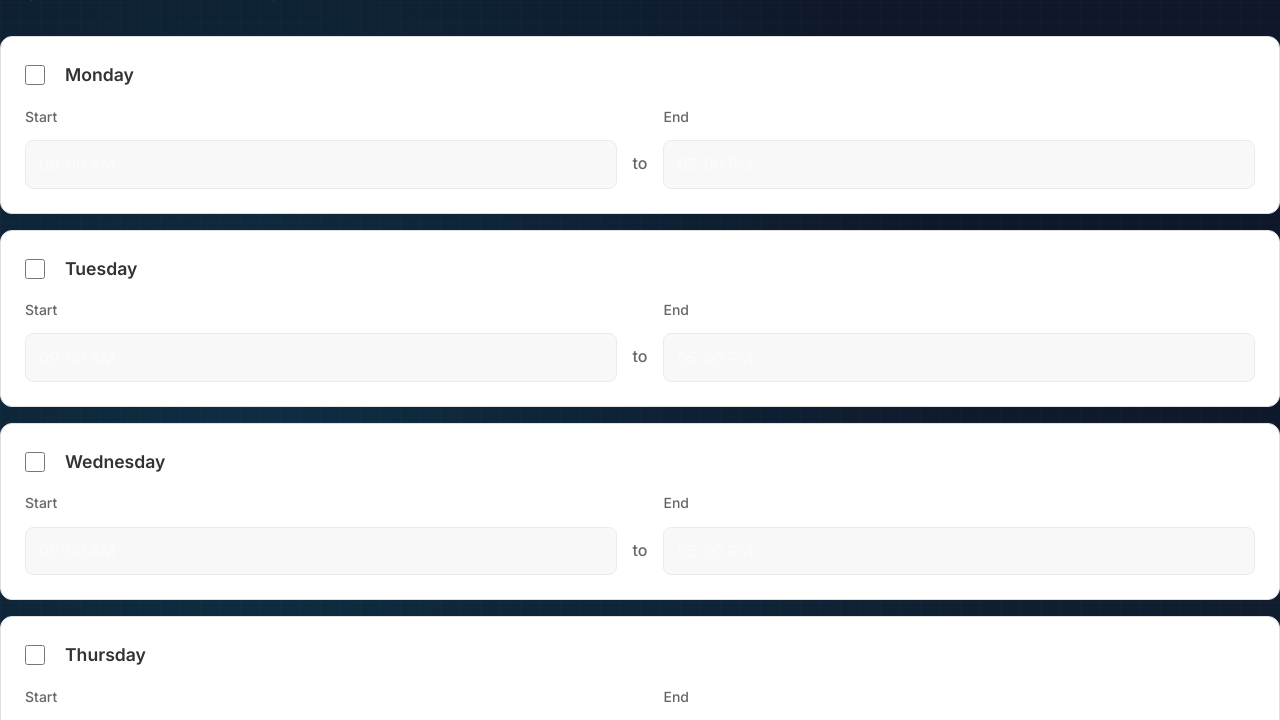
AvailabilityScheduler Component - TDD › Time Input › should validate that end time is after start time
Click the checkbox labelled "Monday" at (35, 76), box [25,66,45,86]
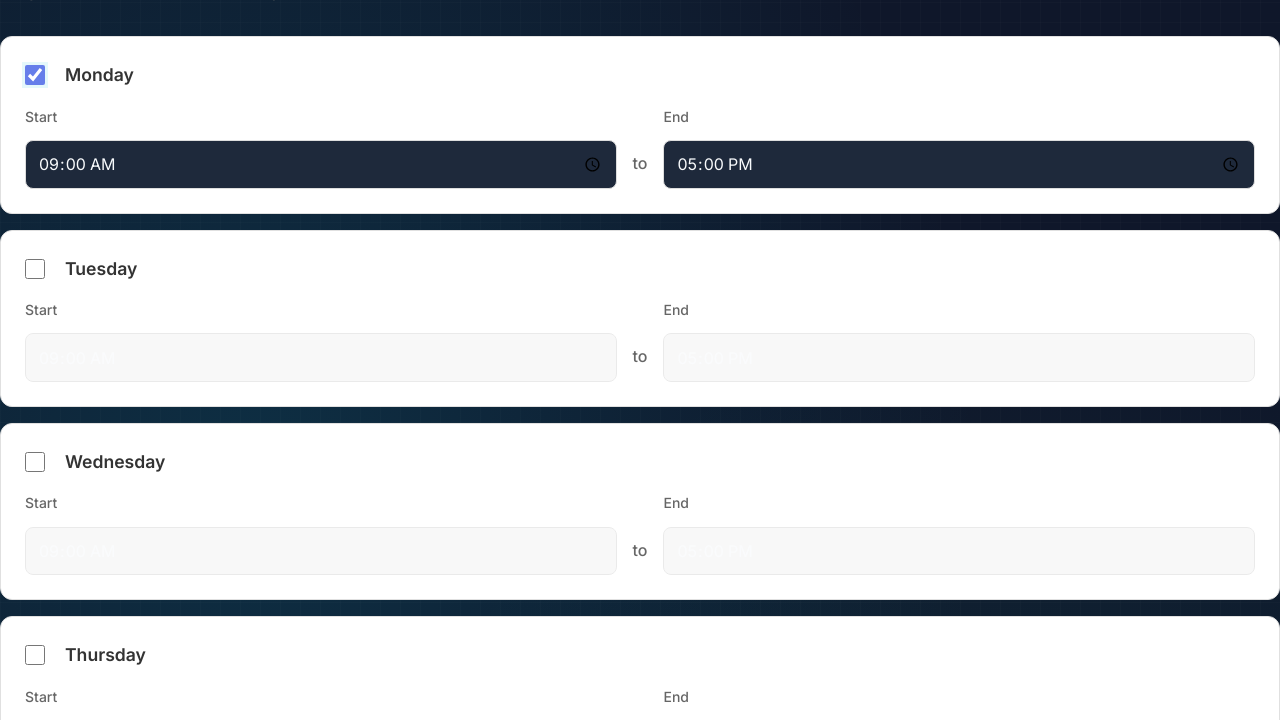
Replace the text in the time field with test id "start-time-monday" with "17:00" at (321, 164), box [25,140,616,189]
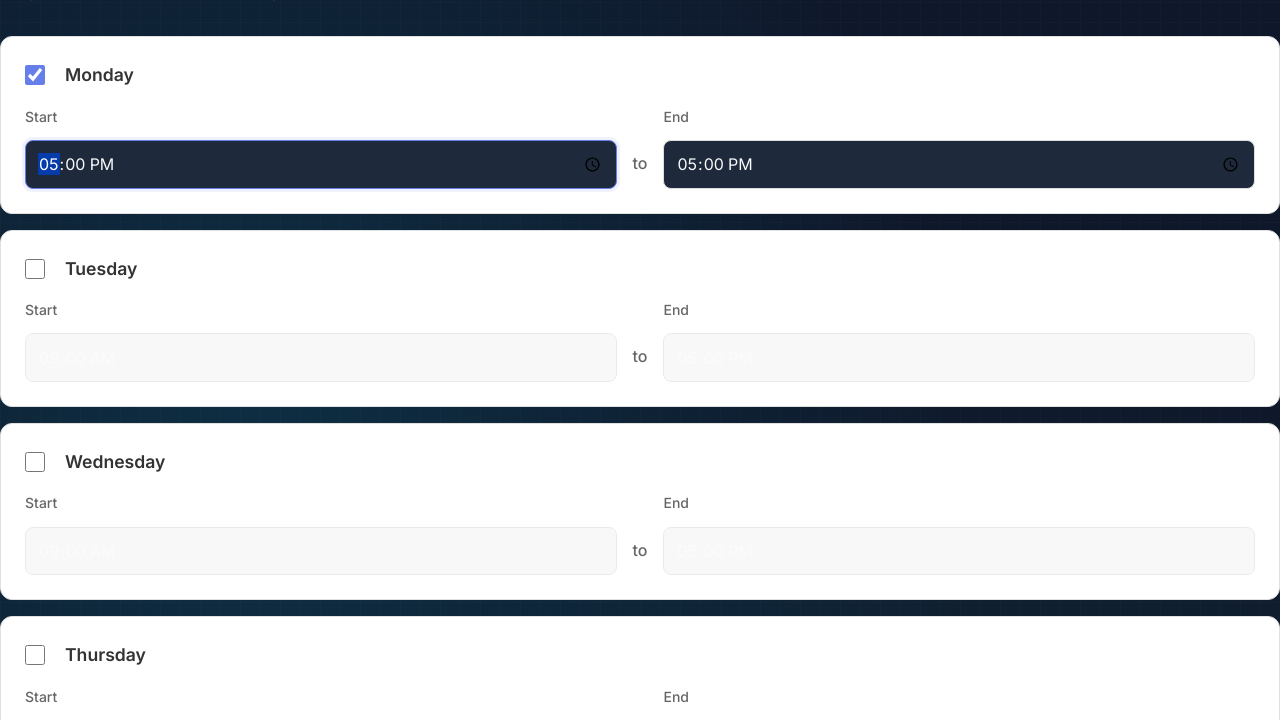
Replace the text in the time field with test id "end-time-monday" with "09:00" at (959, 164), box [664,140,1255,189]
(page scrolled)
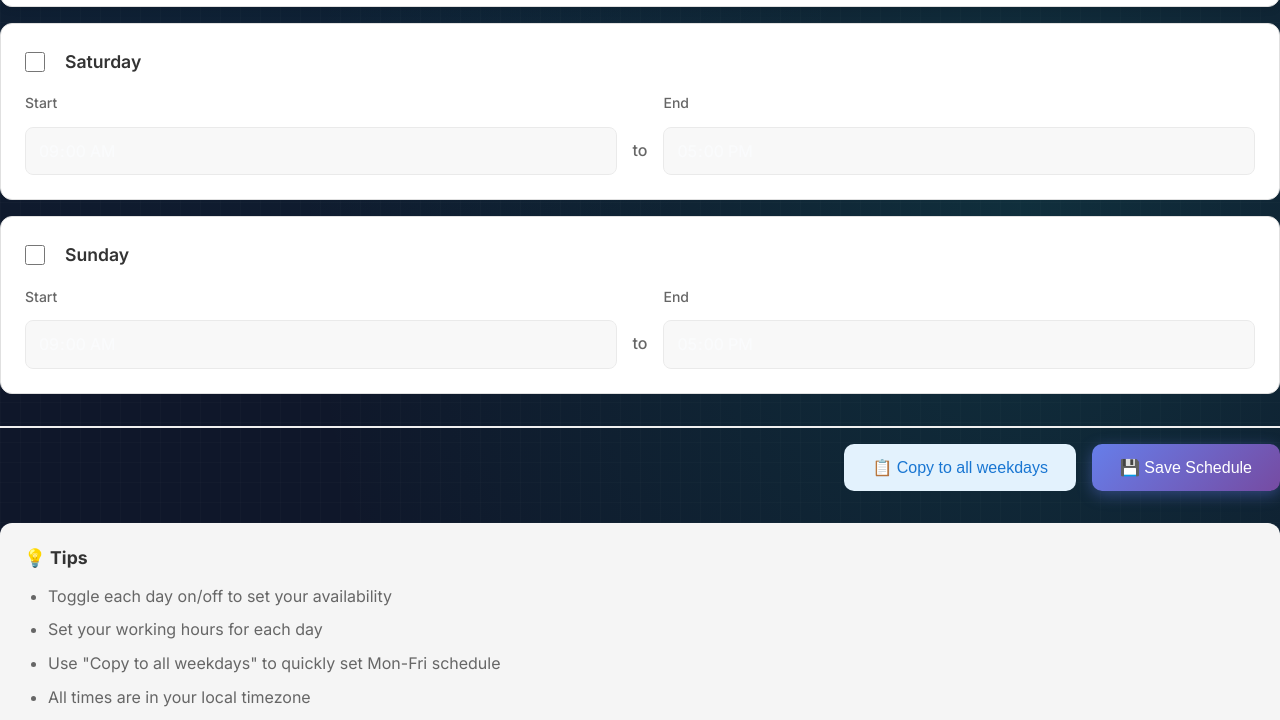
Note: Try to save
Click the button "💾 Save Schedule" at (1186, 467), box [1092,444,1279,491]
(page scrolled)
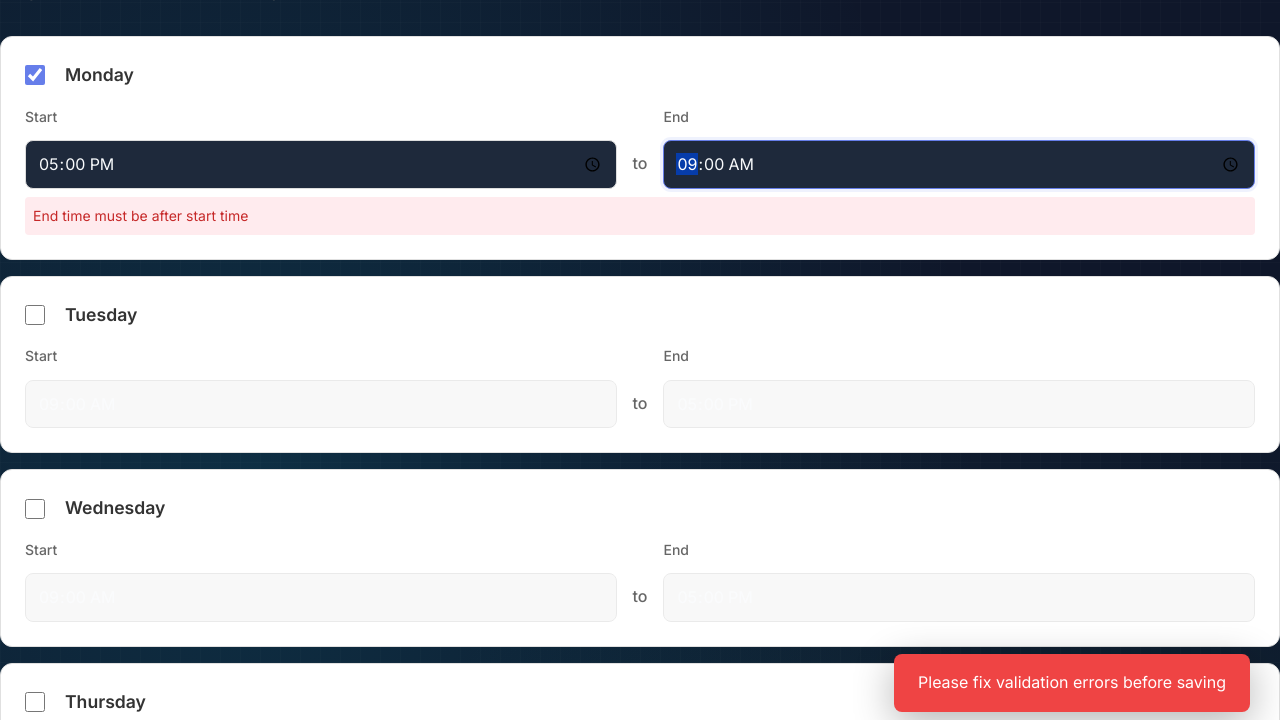
Now the text "End time must be after start time" is shown, box [25,197,1255,235]
